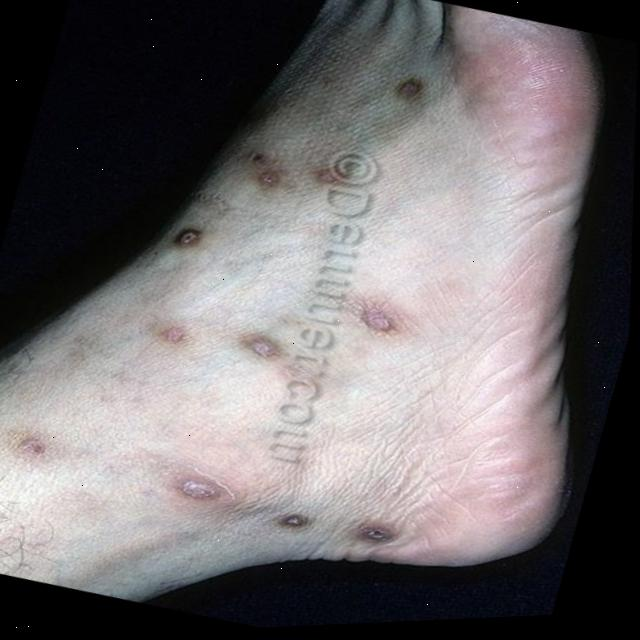Eczema: (167, 465, 229, 514), (348, 300, 400, 340), (349, 519, 400, 553), (238, 333, 282, 362), (168, 219, 206, 248), (10, 433, 46, 459), (275, 506, 311, 532), (154, 320, 187, 347), (393, 74, 422, 100), (238, 143, 267, 167), (256, 167, 286, 188), (313, 166, 341, 185)
